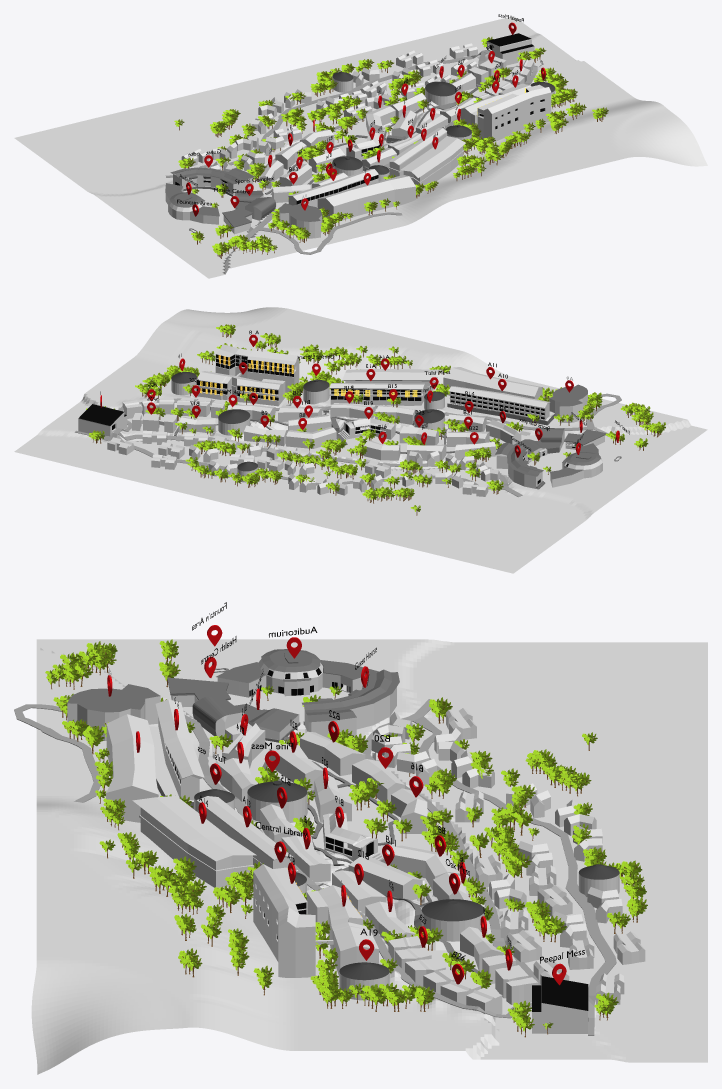
The model's file is map_unfinished.fbx.
3 renders of one model, top to bottom at view 1: azimuth 30°, elevation 25°; view 2: azimuth 150°, elevation 25°; view 3: azimuth 270°, elevation 25°, orthographic. The views are drawn at different scales.
Visible parts, largest first — view 1: Dharti.001, A17+A18, A13 + A14, A11, Road, Guest House, Auditorium, A10, A9, Peepal Mess, Plane, Oak Mess (+10 smaller); view 2: Dharti.001, A17+A18, A13 + A14, A10, Road, A11, Auditorium, Guest House, Peepal Mess, A9, Plane, B19 (+22 smaller); view 3: Dharti.001, A17+A18, Road, A13 + A14, Auditorium, A11, Guest House, A10, A9, Plane, Peepal Mess, Oak Mess (+27 smaller).
Boxes of the visible parts, x1,y1,x2,y2 form: Dharti.001: (14, 16, 707, 278); A17+A18: (460, 83, 551, 142); A13 + A14: (388, 128, 465, 188); A11: (317, 175, 415, 221); Road: (166, 50, 537, 254); Guest House: (170, 167, 255, 196); Auditorium: (165, 183, 219, 224); A10: (288, 169, 378, 207); A9: (279, 203, 322, 238); Peepal Mess: (486, 33, 534, 65); Plane: (235, 190, 276, 220); Oak Mess: (425, 81, 457, 105); Dharti.001: (14, 307, 707, 573); A17+A18: (196, 344, 299, 406); A13 + A14: (329, 369, 442, 405); A10: (447, 386, 555, 425); Road: (75, 393, 621, 496); A11: (443, 367, 542, 399); Auditorium: (550, 443, 602, 487); Guest House: (495, 443, 545, 489); Peepal Mess: (78, 404, 127, 436); A9: (549, 384, 587, 423); Plane: (514, 427, 564, 459); B19: (340, 418, 395, 439); Dharti.001: (31, 639, 707, 1074); A17+A18: (253, 864, 378, 977); Road: (14, 699, 616, 1035); A13 + A14: (132, 796, 293, 887); Auditorium: (216, 649, 378, 697); A11: (106, 714, 158, 822); Guest House: (302, 669, 399, 738); A10: (149, 699, 204, 808); A9: (67, 684, 160, 740); Plane: (192, 696, 300, 742); Peepal Mess: (532, 976, 588, 1033); Oak Mess: (421, 899, 484, 941).
Size of the model in its own units: 62694 by 8306 by 43618.
